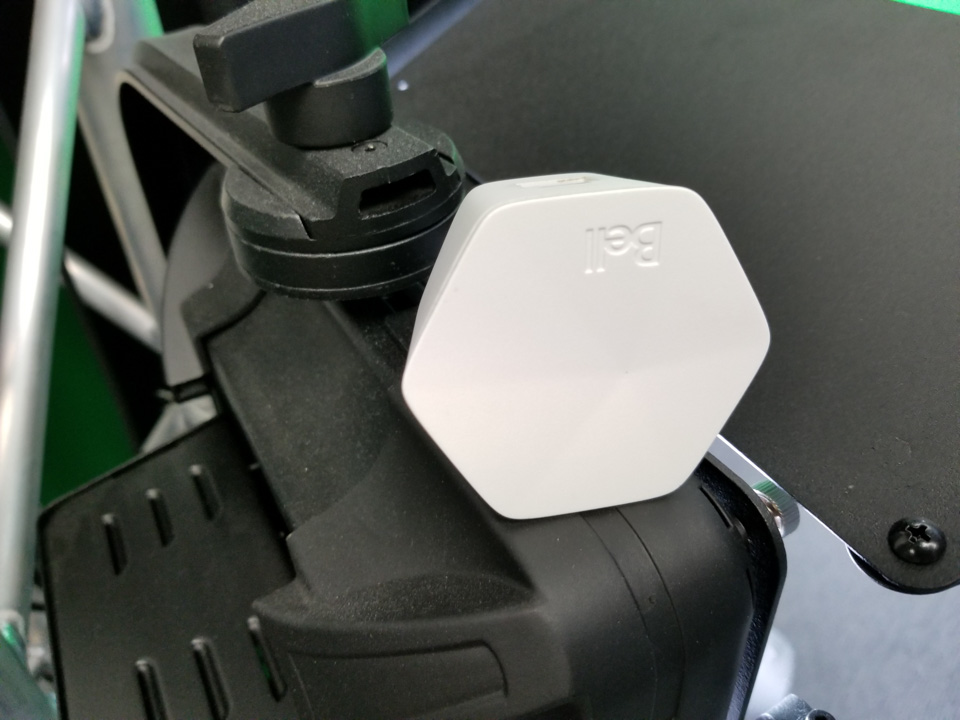pod: (397, 164, 794, 532)
